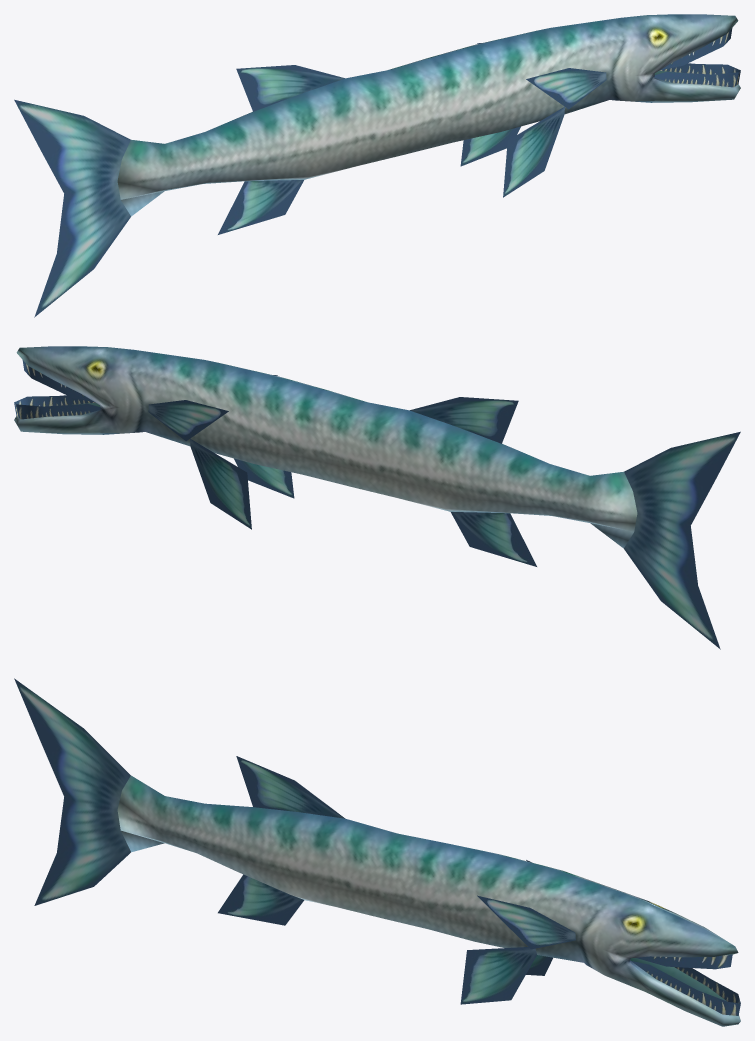
The model's file is pir_m_gam_fsh_mdComBarracuda.fbx.
3 views of the same model, one above another, from view 1: azimuth 30°, elevation 25°; view 2: azimuth 150°, elevation 25°; view 3: azimuth 330°, elevation 25° (orthographic).
Parts seen in each view (by area): view 1: body, finTail, finTop, finBottom_frontR, finBottom, finSide_frontR, teeth_bottom, finBottom_frontL, teeth_top; view 2: body, finTail, finTop, finBottom_frontL, finBottom, finSide_frontL, teeth_bottom, finBottom_frontR, teeth_top; view 3: body, finTail, finBottom_frontR, finTop, finBottom, finSide_frontR, teeth_bottom, teeth_top.
Part boxes in pixels (bbox=[...]): body: bbox=[117, 14, 740, 216]; finTail: bbox=[14, 99, 130, 317]; finTop: bbox=[236, 65, 344, 111]; finBottom_frontR: bbox=[503, 106, 564, 197]; finBottom: bbox=[218, 180, 303, 234]; finSide_frontR: bbox=[526, 68, 606, 109]; teeth_bottom: bbox=[654, 63, 740, 87]; finBottom_frontL: bbox=[460, 126, 520, 166]; teeth_top: bbox=[660, 28, 732, 70]; body: bbox=[14, 346, 637, 548]; finTail: bbox=[624, 431, 740, 649]; finTop: bbox=[410, 397, 518, 443]; finBottom_frontL: bbox=[190, 438, 251, 529]; finBottom: bbox=[451, 512, 536, 566]; finSide_frontL: bbox=[148, 400, 228, 441]; teeth_bottom: bbox=[14, 395, 100, 419]; finBottom_frontR: bbox=[234, 458, 294, 498]; teeth_top: bbox=[22, 360, 94, 402]; body: bbox=[117, 775, 740, 1026]; finTail: bbox=[14, 678, 130, 905]; finBottom_frontR: bbox=[460, 947, 536, 1004]; finTop: bbox=[236, 756, 344, 818]; finBottom: bbox=[218, 874, 304, 925]; finSide_frontR: bbox=[477, 895, 575, 949]; teeth_bottom: bbox=[631, 961, 740, 1015]; teeth_top: bbox=[636, 954, 732, 969].
Size of the model in its own units: 946 by 277 by 111.
1 material, 1 textured.
